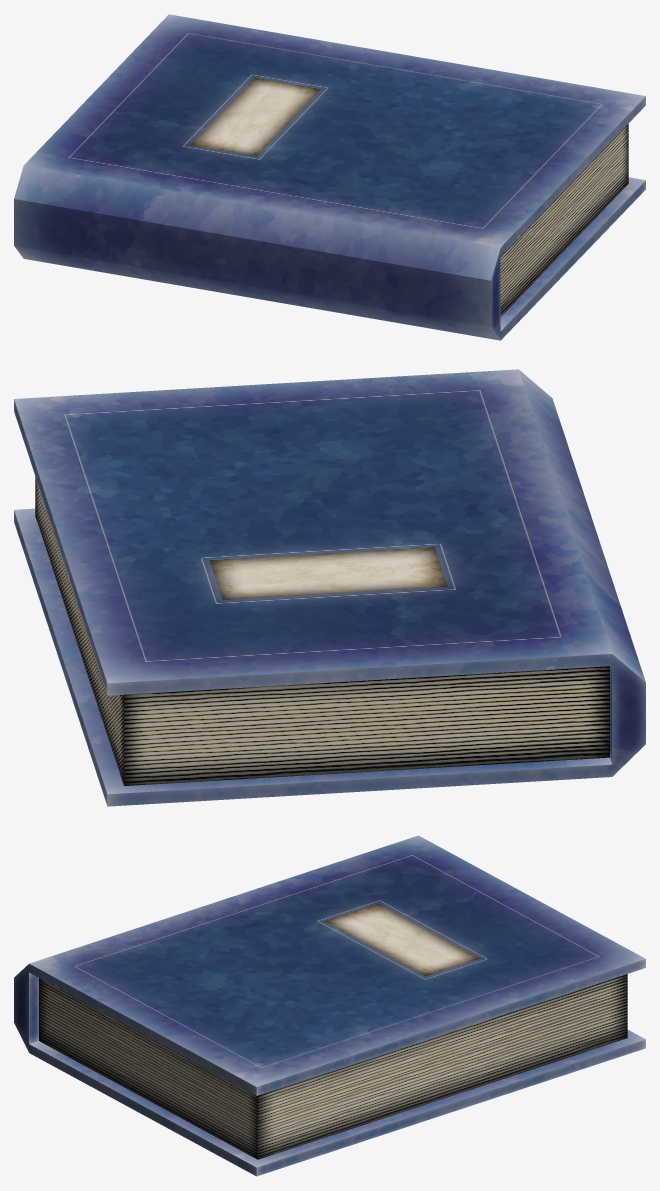
The model's file is closedBook.fbx.
3 renders of one model, top to bottom at view 1: azimuth 30°, elevation 25°; view 2: azimuth 150°, elevation 25°; view 3: azimuth 270°, elevation 25°, orthographic. The views are drawn at different scales.
Visible parts, largest first — view 1: closedBook; view 2: closedBook; view 3: closedBook.
Boxes of the visible parts, x1,y1,x2,y2 form: closedBook: (14, 14, 645, 340); closedBook: (14, 369, 645, 806); closedBook: (14, 835, 645, 1176).
Bounding box in the file's own units: 14.95 × 2.4 × 15.37.
Materials: 1 (1 with a texture image).
